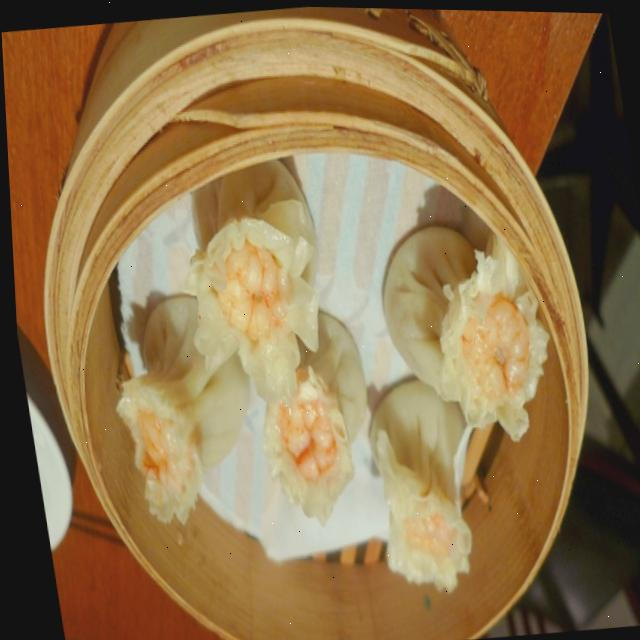带馅早点: (77, 139, 565, 623)
